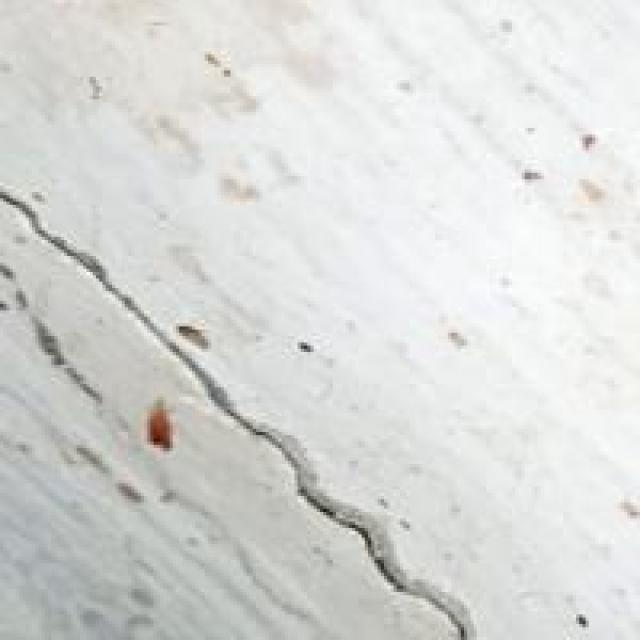crack: (0, 147, 525, 637)
